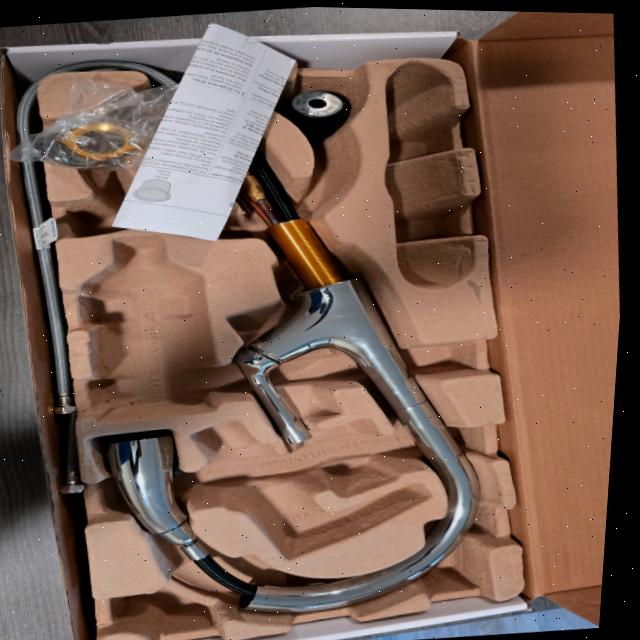1o: (107, 71, 479, 612)
2m: (191, 420, 430, 560)
3m: (85, 234, 214, 422)
4m: (382, 61, 479, 288)
5: (278, 90, 351, 145)
6o: (4, 73, 196, 168)
7m: (59, 172, 207, 237)
8: (111, 20, 300, 240)
